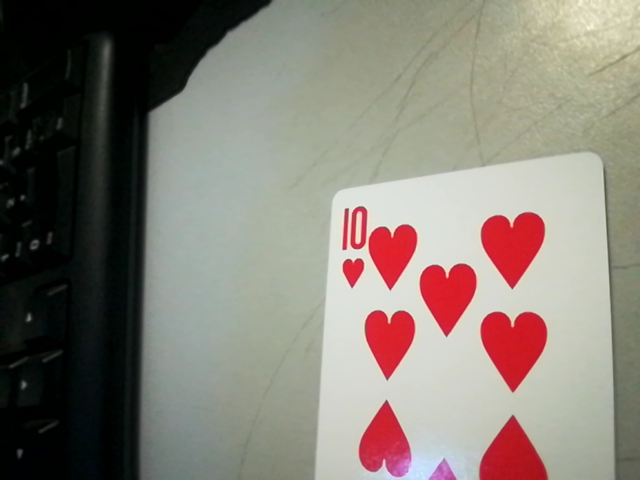hx 10: (328, 197, 372, 291)
